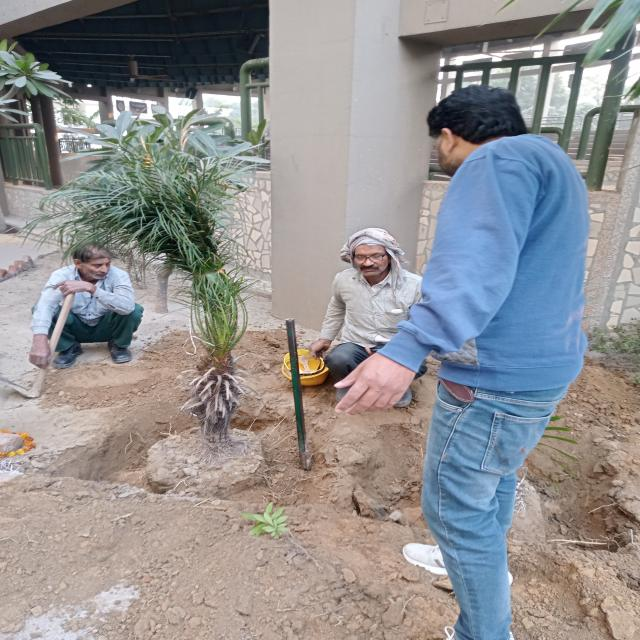unsafe: (342, 84, 590, 640), (287, 226, 425, 398), (20, 246, 146, 364)
